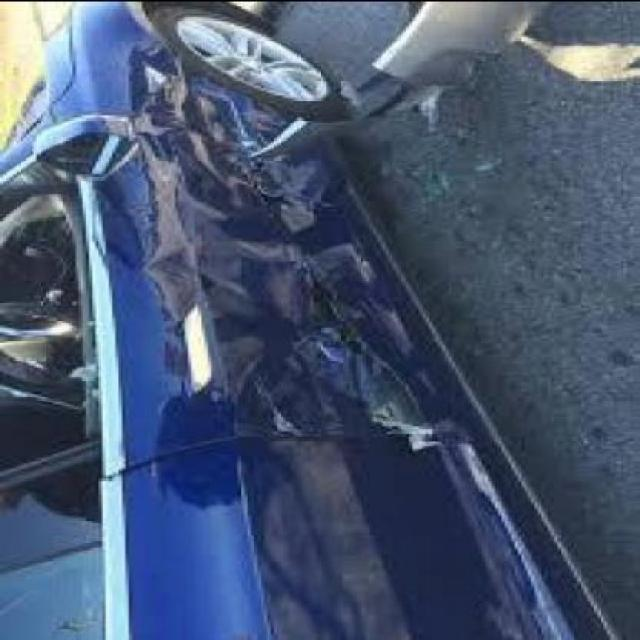damage: (86, 60, 450, 448)
